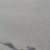zebra: (1, 1, 50, 39)
